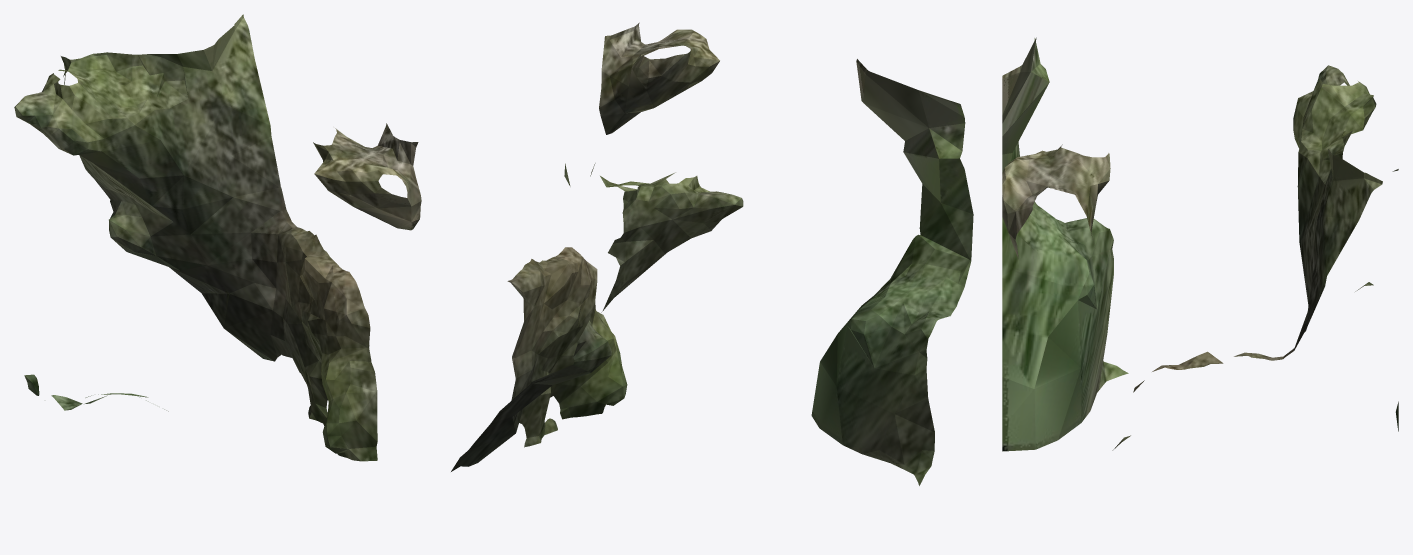
3 renders of one model, left to right at view 1: azimuth 30°, elevation 25°; view 2: azimuth 150°, elevation 25°; view 3: azimuth 270°, elevation 25°, orthographic. The views are drawn at different scales.
Size of the model in its own units: 5.9 by 5.9 by 5.9.
4 materials, 4 textured.
